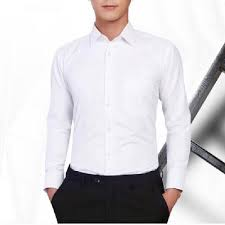F_shirt: (43, 20, 190, 195)
